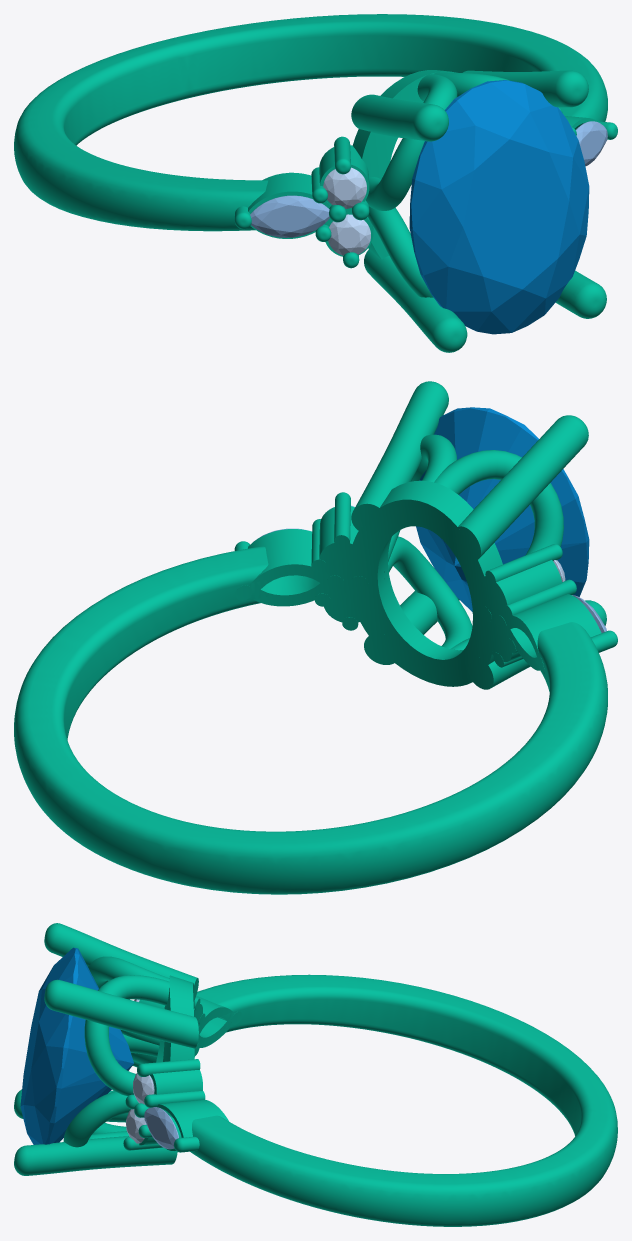
3 renders of one model, top to bottom at view 1: azimuth 30°, elevation 25°; view 2: azimuth 150°, elevation 25°; view 3: azimuth 270°, elevation 25°, orthographic. The views are drawn at different scales.
Visible parts, largest first — view 1: Rhinoceros Binary STL ( May 22 2017 ) (×12), Diamond_Oval, Diamond_Marquise (×2), Diamond_Round (×2); view 2: Rhinoceros Binary STL ( May 22 2017 ) (×17), Diamond_Oval; view 3: Rhinoceros Binary STL ( May 22 2017 ) (×14), Diamond_Oval, Diamond_Marquise, Diamond_Round (×2).
Part boxes in pixels (left/top/right/bottom): Rhinoceros Binary STL ( May 22 2017 ) (×12): left=14, top=14, right=607, bottom=352; Diamond_Oval: left=409, top=80, right=589, bottom=334; Diamond_Marquise (×2): left=250, top=121, right=607, bottom=237; Diamond_Round (×2): left=323, top=167, right=370, bottom=255; Rhinoceros Binary STL ( May 22 2017 ) (×17): left=14, top=381, right=607, bottom=894; Diamond_Oval: left=416, top=407, right=589, bottom=611; Rhinoceros Binary STL ( May 22 2017 ) (×14): left=14, top=923, right=617, bottom=1226; Diamond_Oval: left=20, top=947, right=133, bottom=1144; Diamond_Marquise: left=144, top=1107, right=178, bottom=1149; Diamond_Round (×2): left=126, top=1073, right=154, bottom=1143.
Bounding box in the file's own units: 2.45 × 1.1 × 2.96.
